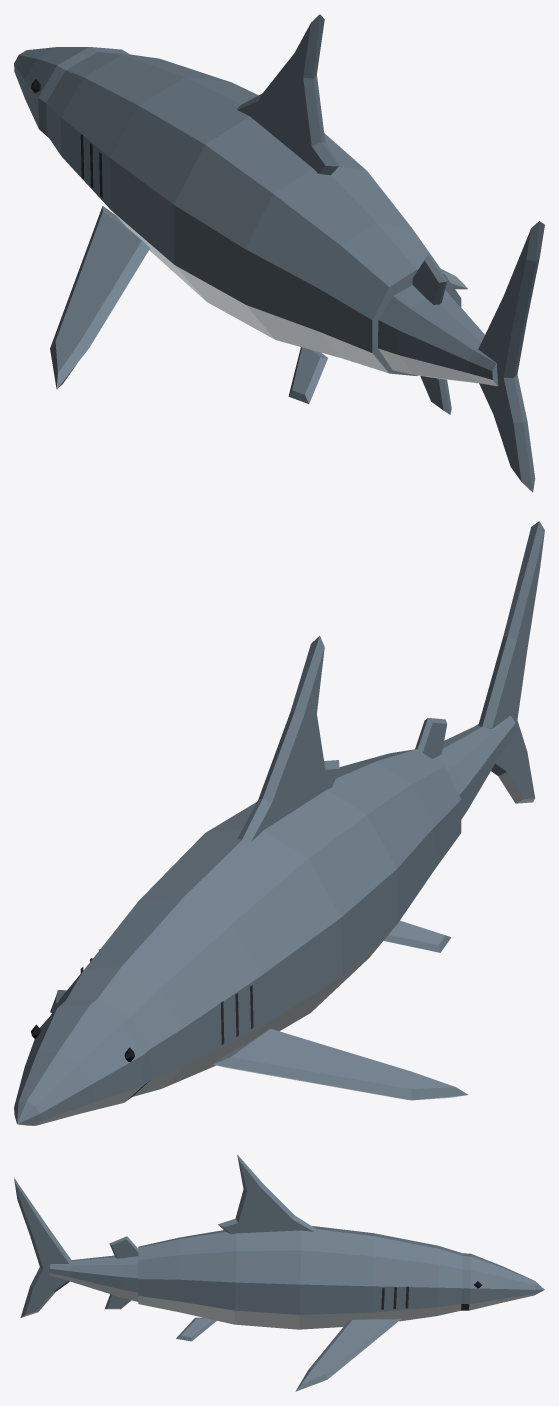
Rendered from shark.glb.
3 renders of one model, top to bottom at view 1: azimuth 30°, elevation 25°; view 2: azimuth 150°, elevation 25°; view 3: azimuth 270°, elevation 25°, orthographic. The views are drawn at different scales.
Visible parts, largest first — view 1: shark__body, shark__tail; view 2: shark__body, shark__tail; view 3: shark__body, shark__tail.
Part boxes in pixels (box(x1,y1,x2,y2)): shark__body: box(14, 14, 467, 403); shark__tail: box(378, 221, 544, 492); shark__body: box(14, 636, 468, 1125); shark__tail: box(415, 521, 544, 819); shark__body: box(138, 1154, 544, 1391); shark__tail: box(14, 1178, 173, 1317).
Bounding box in the file's own units: 1.5 × 1.28 × 3.28.
1 material, 1 textured.
